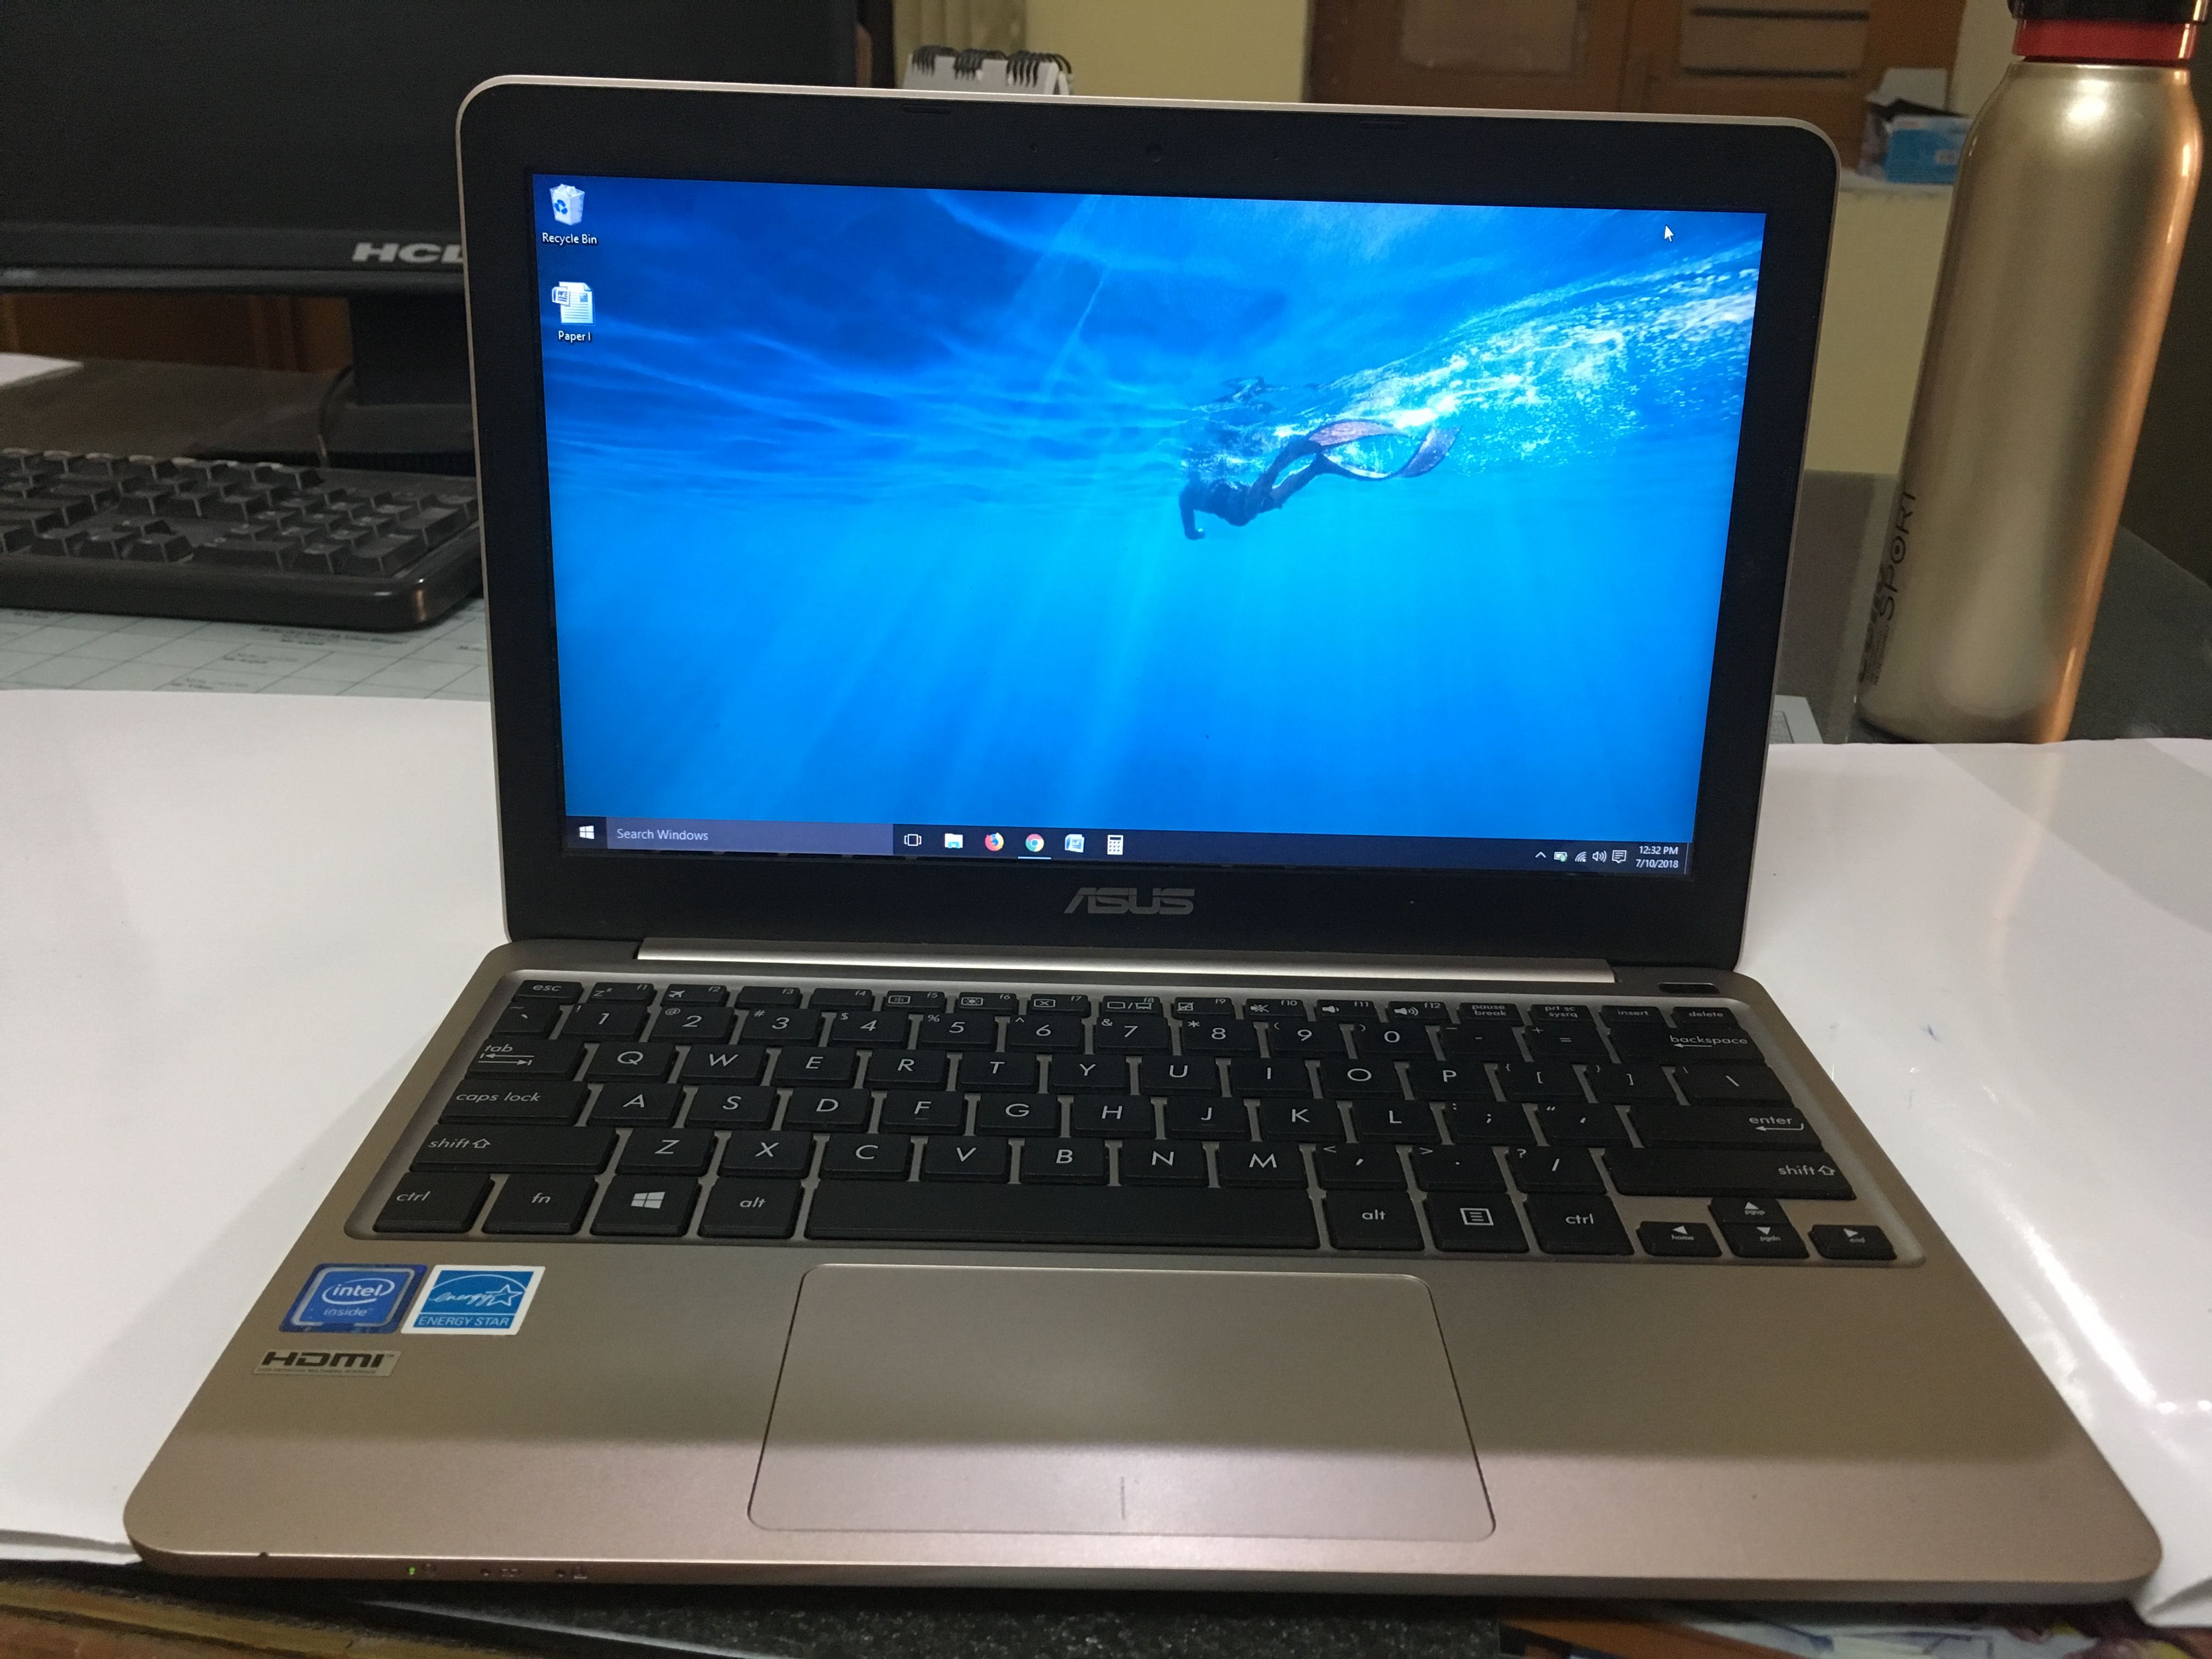laptop: (392, 73, 1965, 1610)
